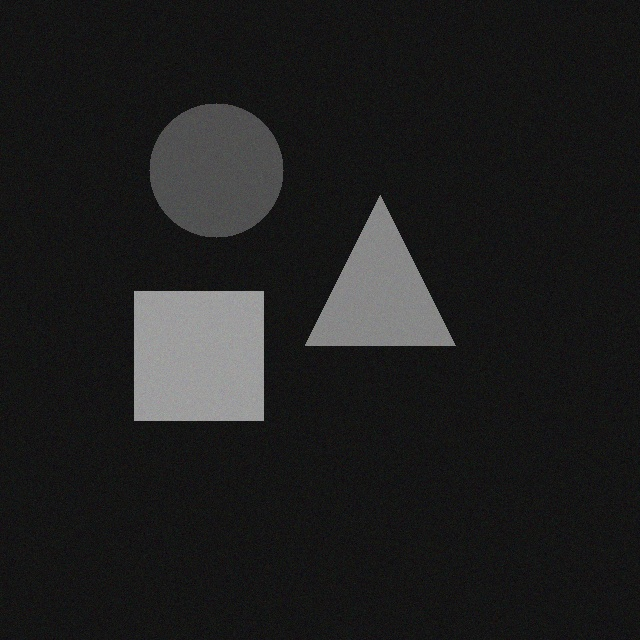circle: (135, 109, 269, 243)
square: (120, 297, 249, 426)
triangle: (291, 201, 441, 351)
